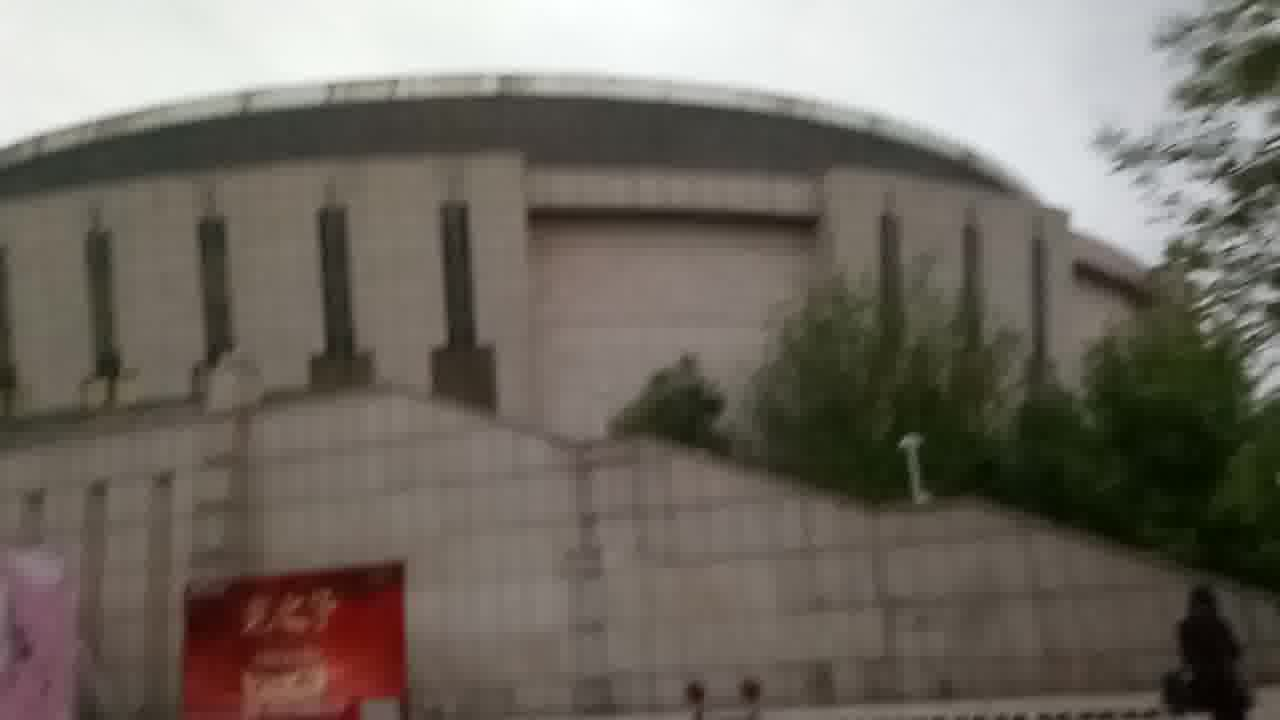zhongtiww: (5, 68, 1243, 720)
